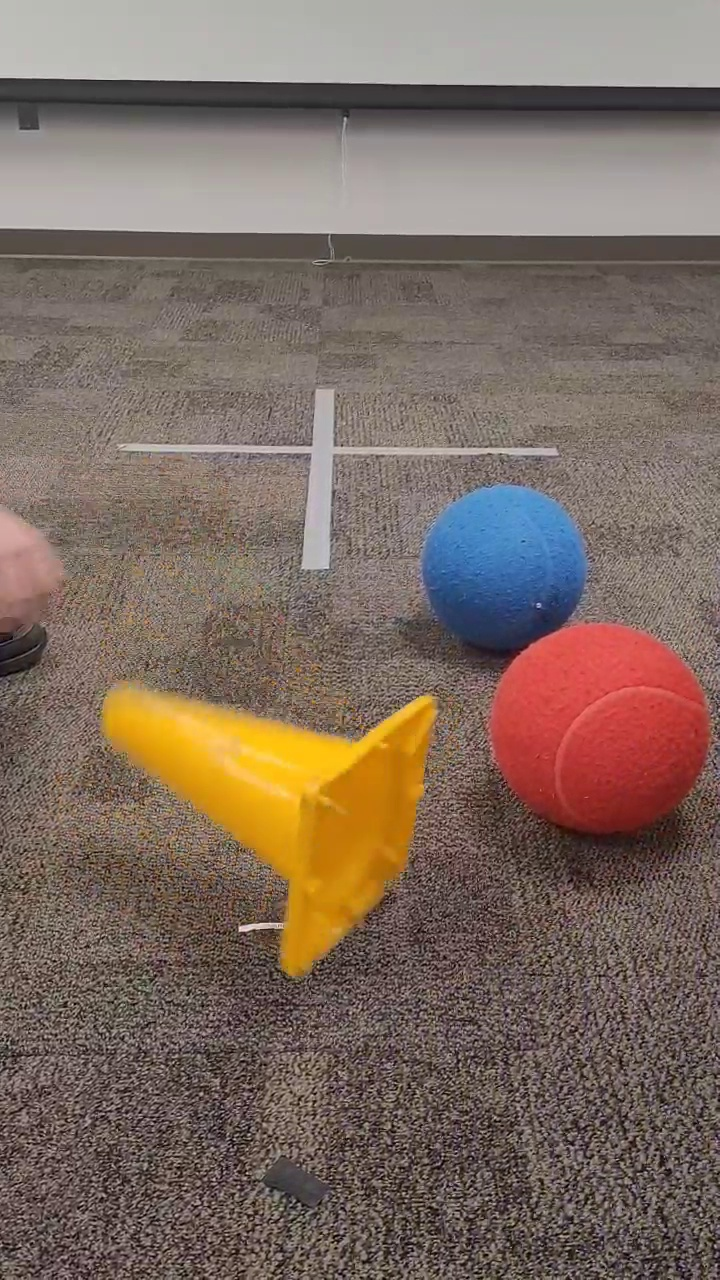ball: (487, 622, 715, 842), (420, 483, 587, 657)
cone: (98, 674, 441, 981)
foot: (1, 610, 56, 679)
hand: (1, 498, 71, 645)
